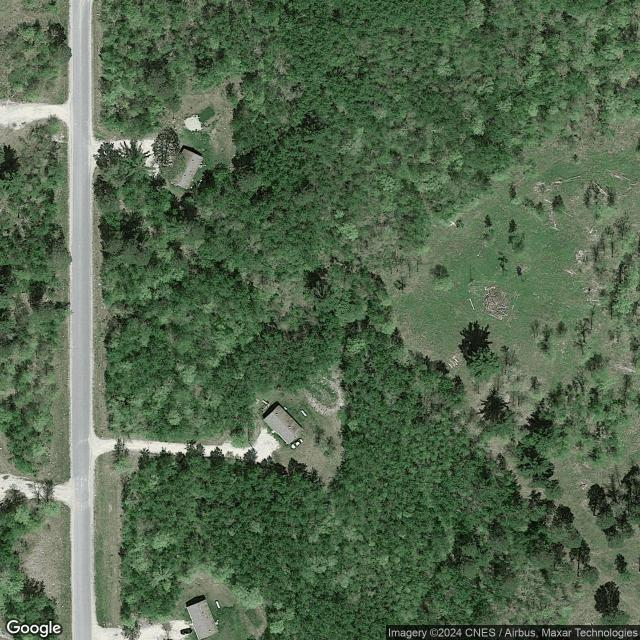Propane: (299, 408, 309, 419), (214, 599, 222, 610)
